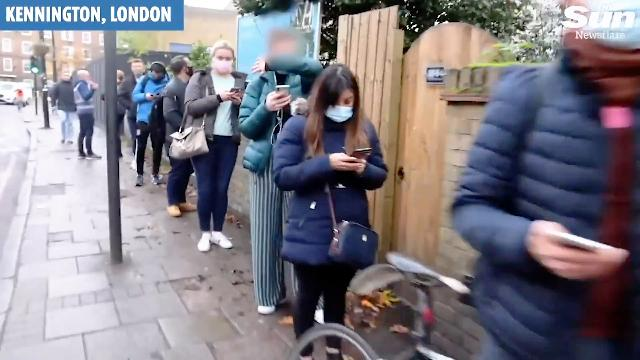berdiri: (268, 54, 394, 360), (185, 37, 247, 260)
